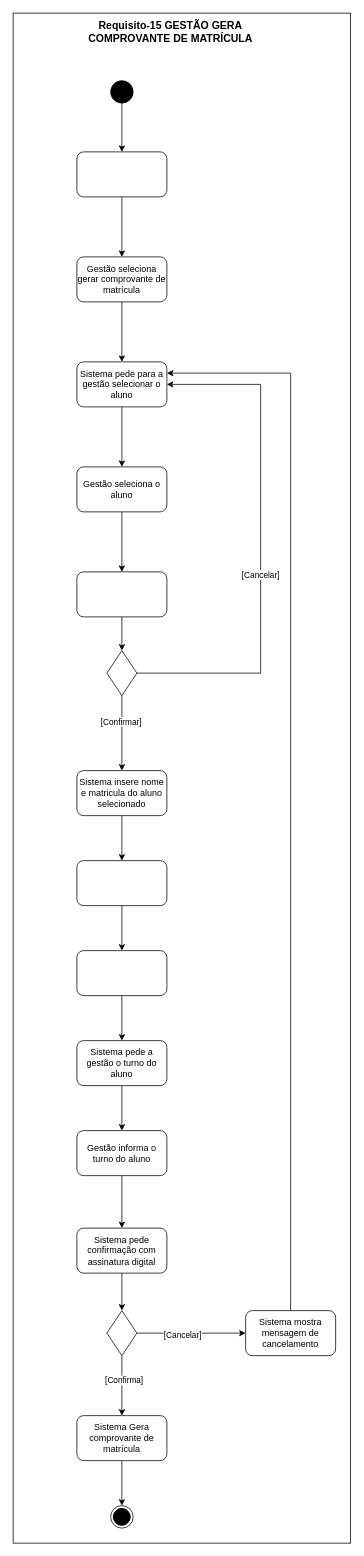
Image size: 364x1556. Some labels were removed from this diagram. The shapes that lost their labels are listed below. From the top down, each one's centre as x and y in pixels, then its label:
At (x=121, y=174): "Gestão entra no sistema".
At (x=121, y=594): "Sistema pede confirmação da seleção".
At (x=121, y=883): "Sistema pede para a gestão a carga horária".
At (x=121, y=973): "Gestão informa carga horária".
